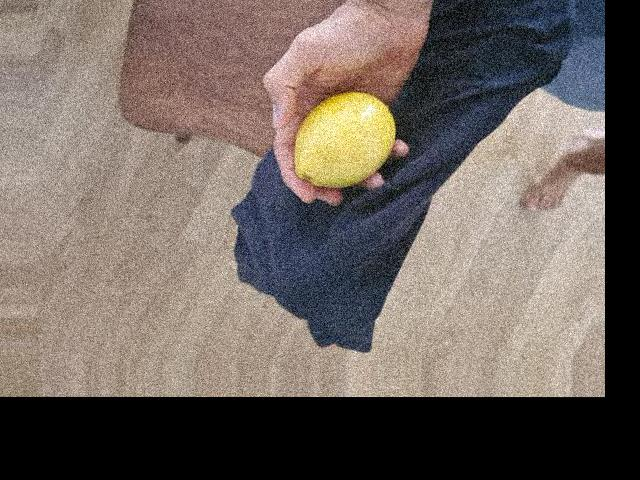lemon: (293, 95, 396, 189)
